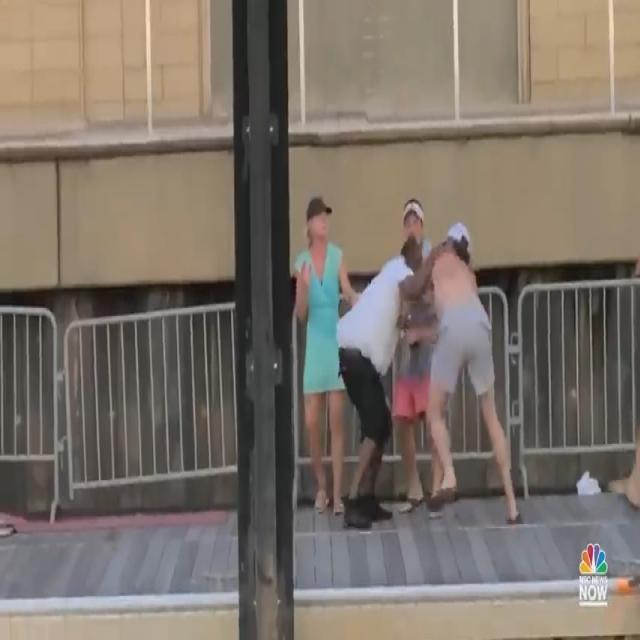fight: (338, 200, 526, 530)
non-fight: (292, 192, 347, 530)
